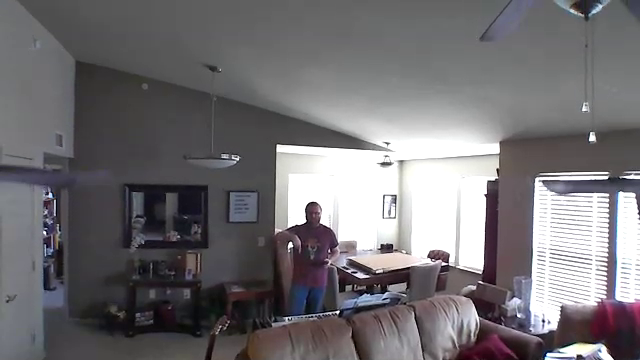down: (291, 232, 305, 255)
